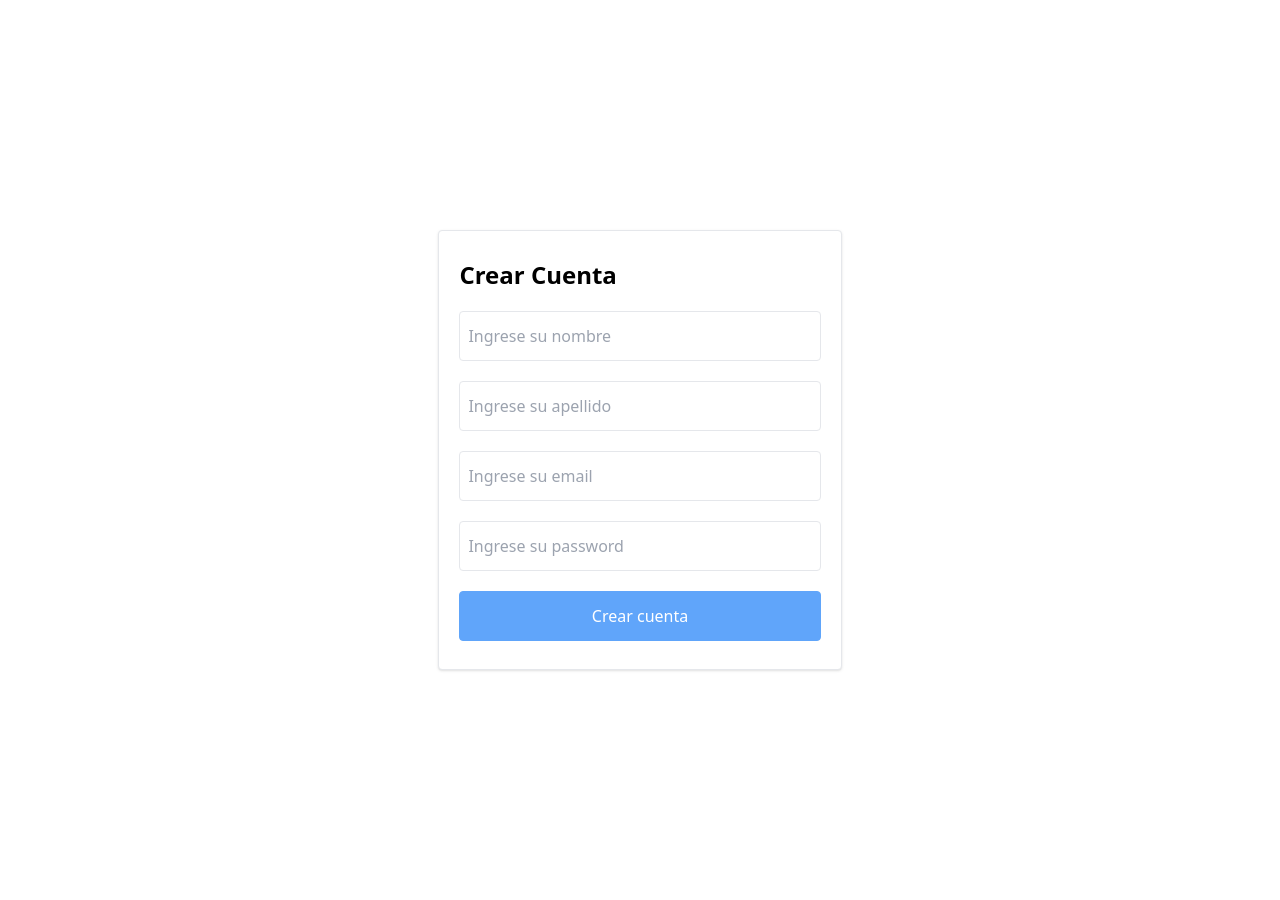
Test: Render App component › Test SignUp
This screenshot has width=1280, height=900.
In the field named "name": (640,336) [459, 311, 821, 361], type "Pepe"
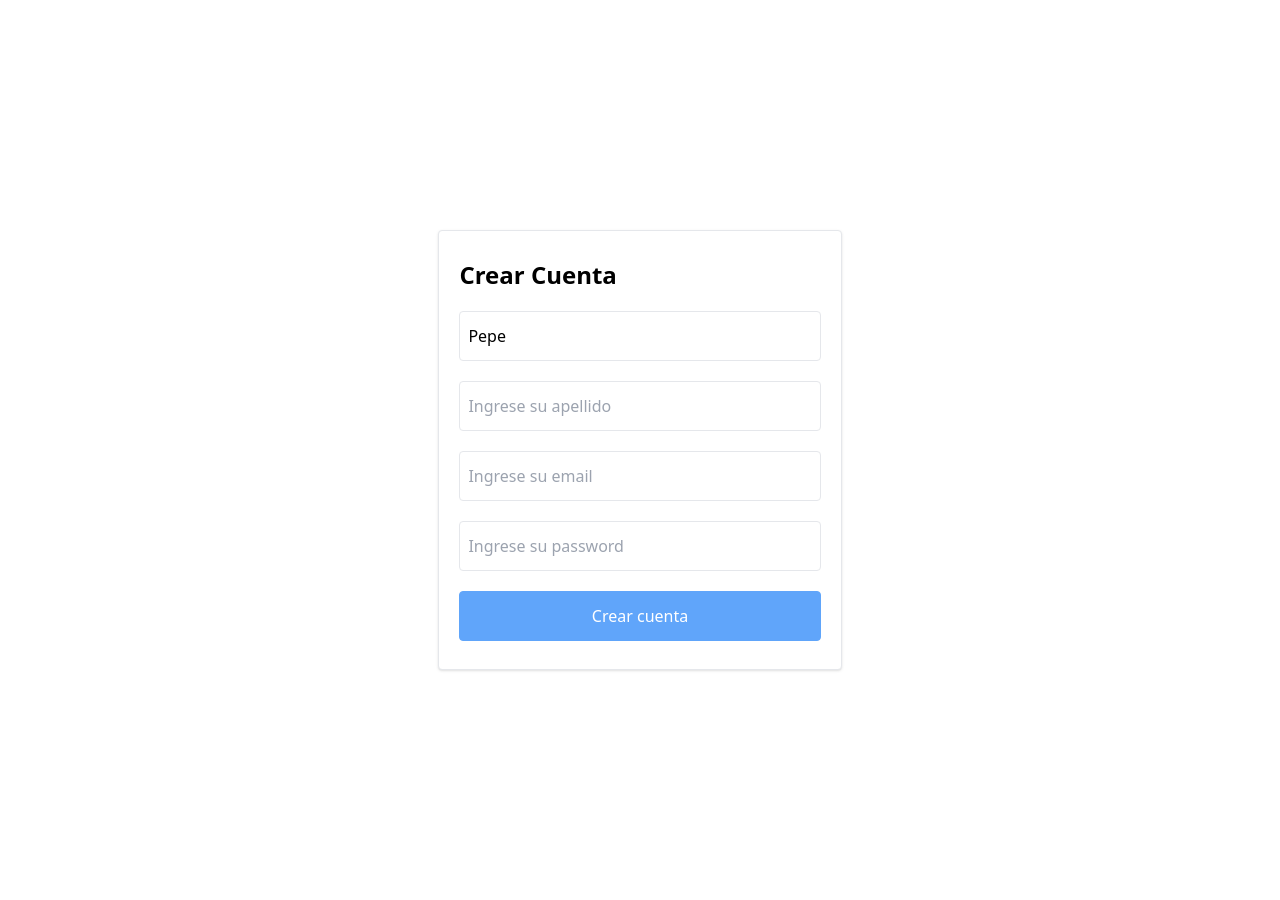
In the field named "lastname": (640,406) [459, 381, 821, 431], type "Perez"
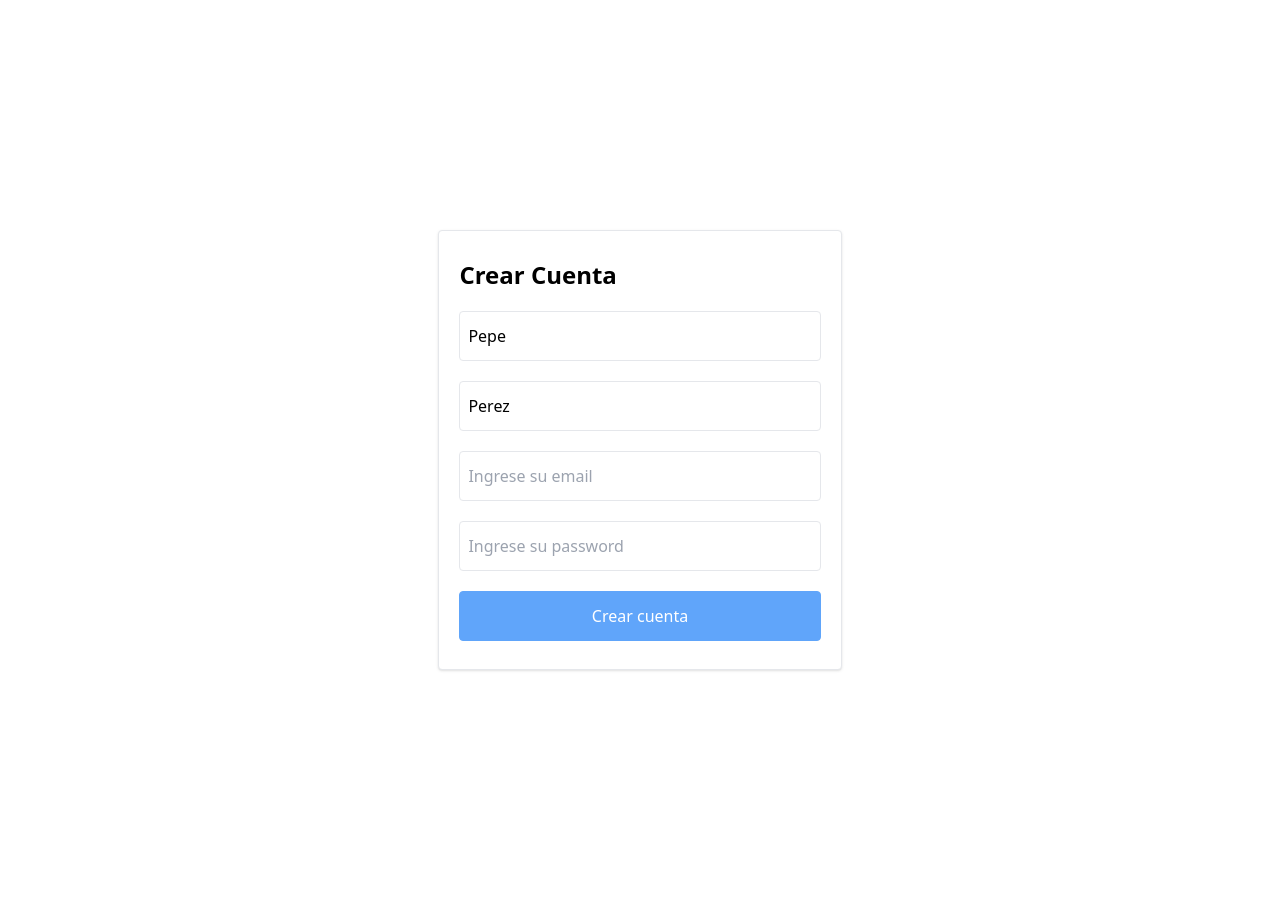
In the field labelled "email": (640,476) [459, 451, 821, 501], type "pepe@gmail.com"
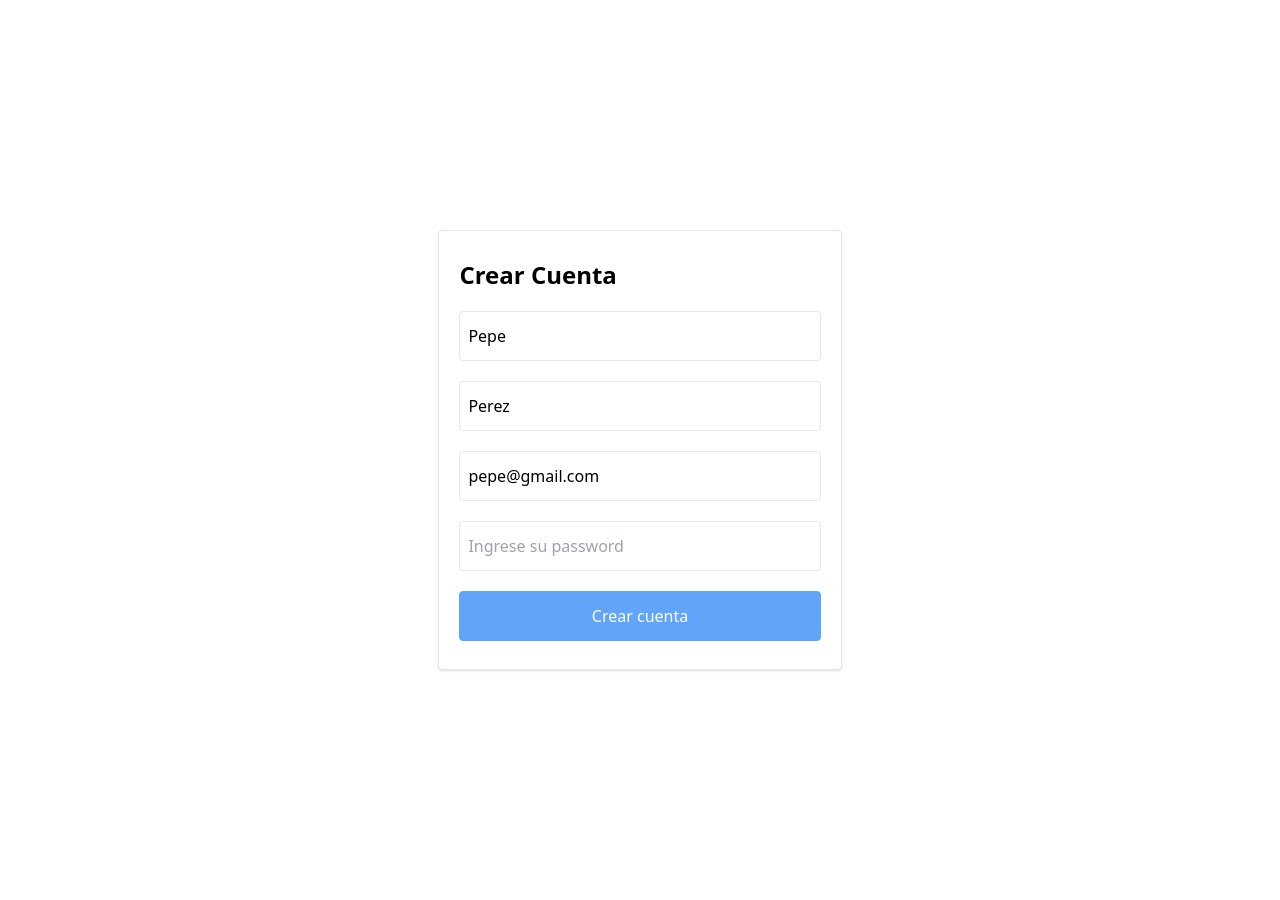
In the password field labelled "password": (640,546) [459, 521, 821, 571], type "pepe12345"
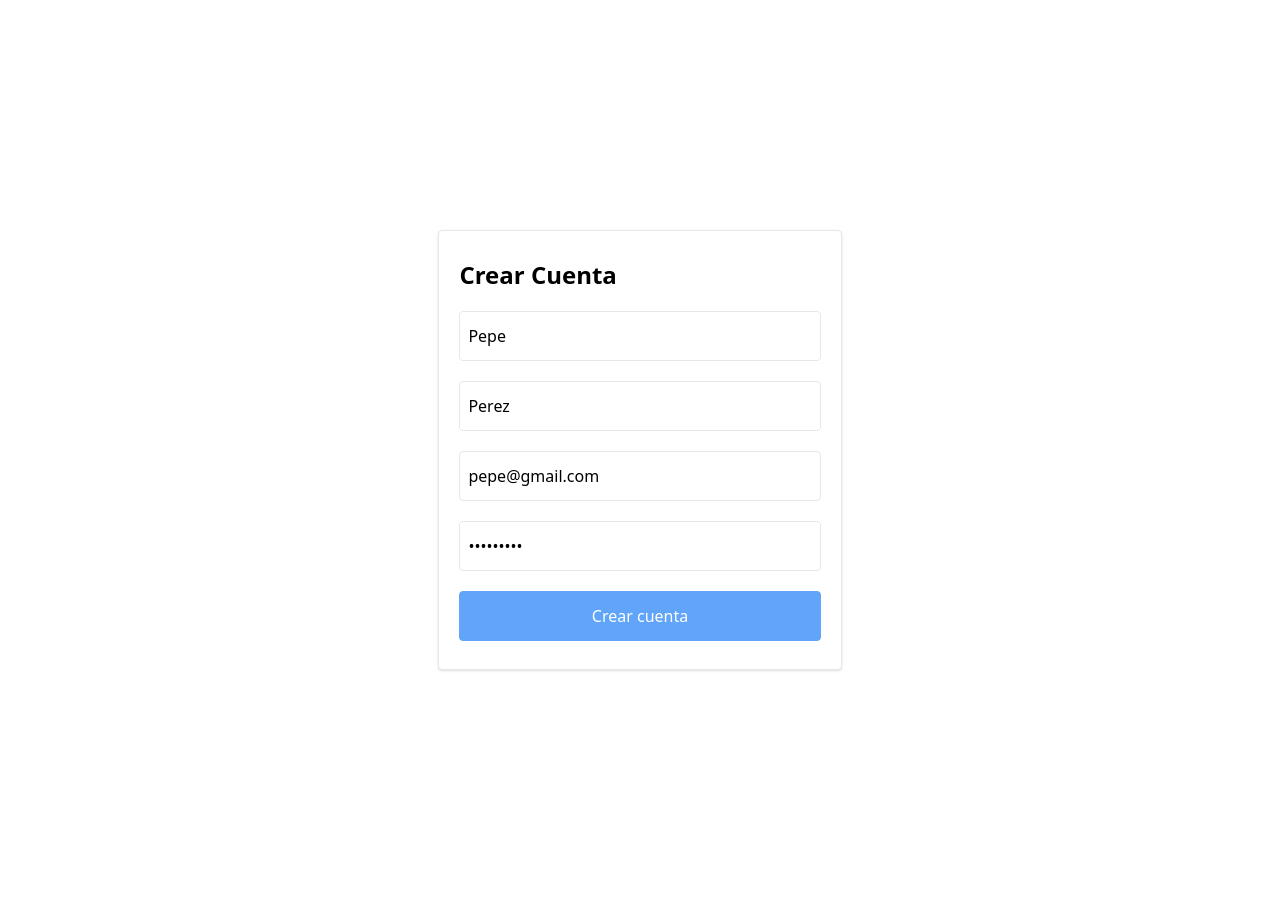
Click the button labelled "Crear cuenta": (640,616) [459, 591, 821, 641]
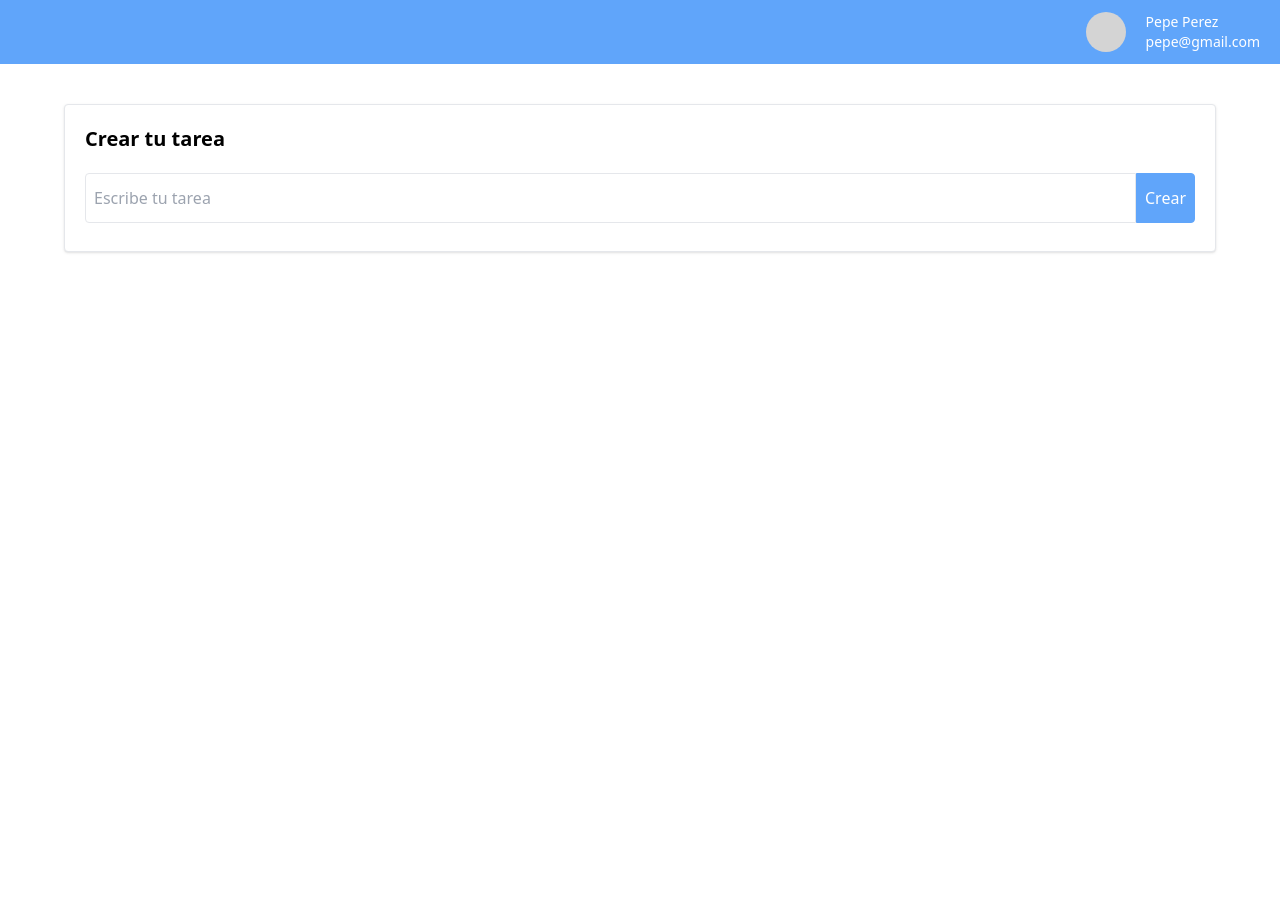
Check: the heading "Crear tu tarea" is shown, box [85, 125, 225, 152]
